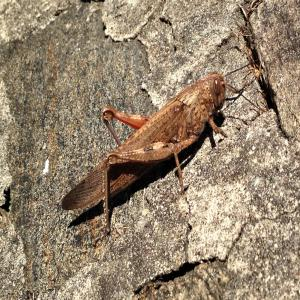locust: (56, 51, 258, 237)
